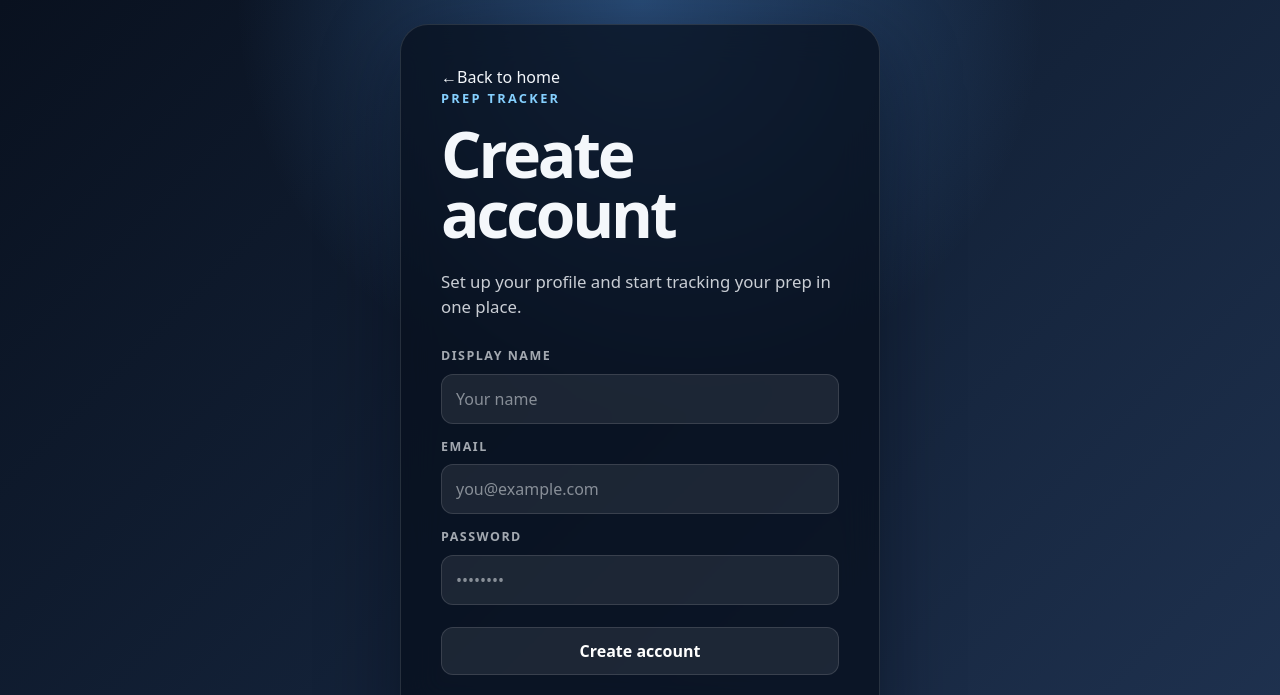
Scenario: RegisterForm › shows a validation error when password is missing
The width and height of the screenshot is (1280, 695).
Type "user@example.com" into the field labelled "Email" at coordinates (640, 489), box [441,464,839,514]
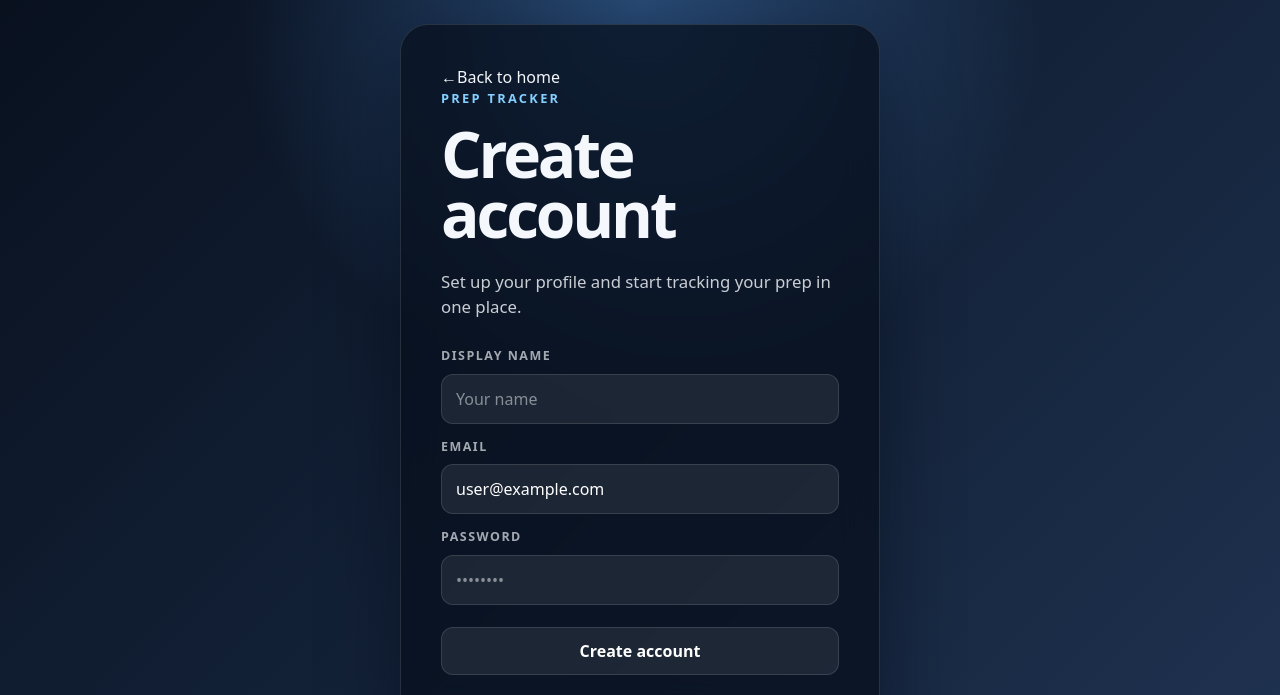
Click the button "Create account" at coordinates (640, 651), box [441,627,839,675]
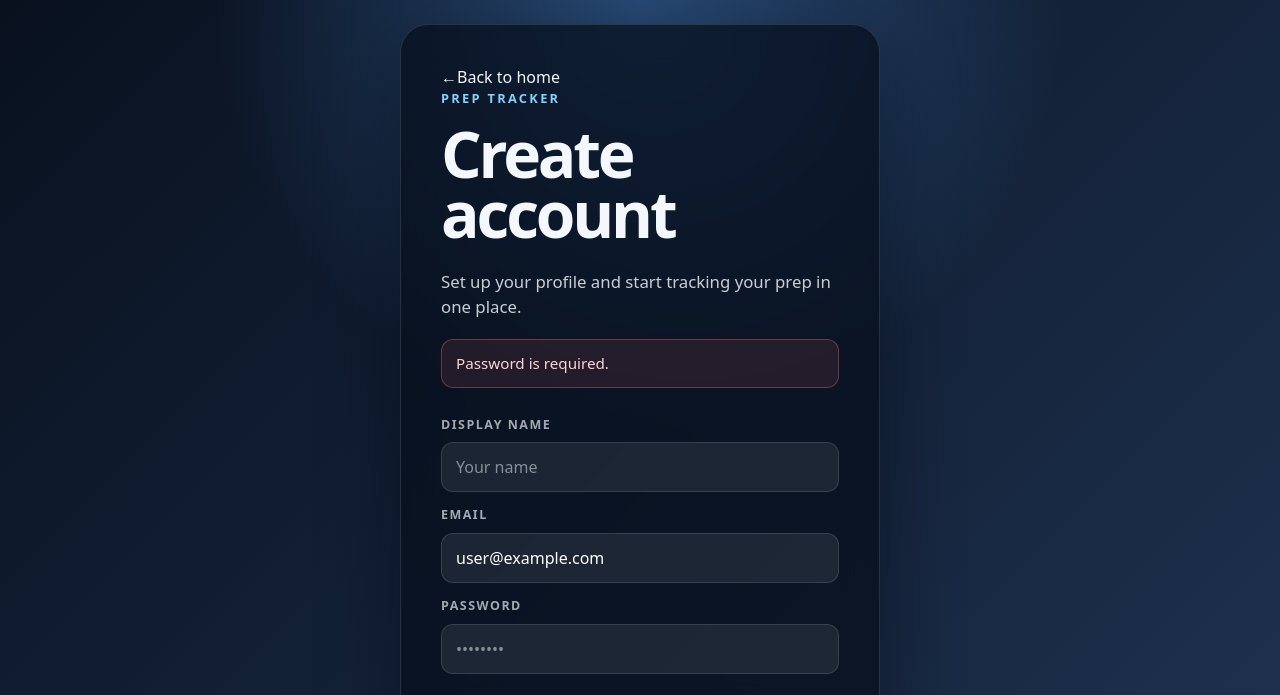
Result: the message reads "Password is required." at [456,353,609,373]
